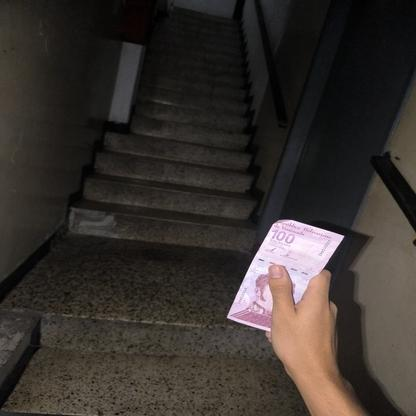one_hundred-front-vef: (224, 218, 346, 333)
